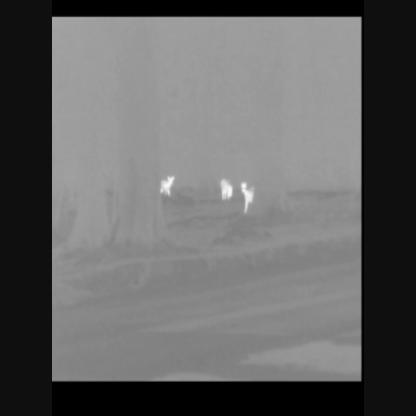rehkitze: (159, 171, 176, 201)
